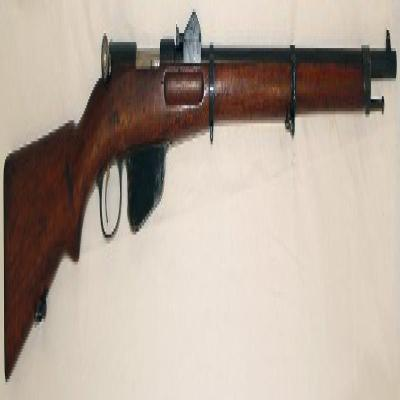weapon: (3, 15, 394, 379)
